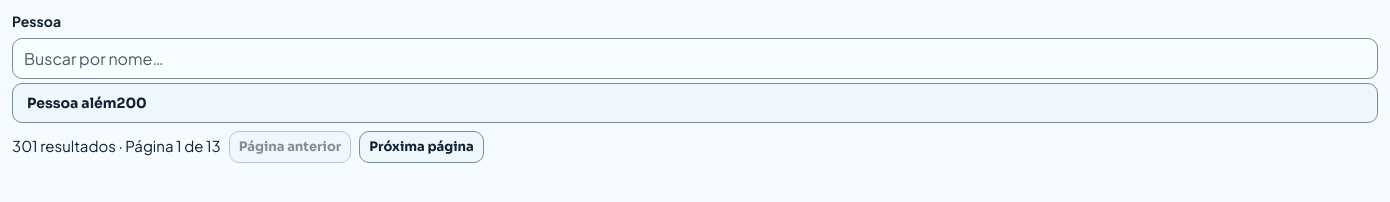
Test case: PaginatedLookup › alcança página seguinte e mantém nome selecionado ao paginar
Click the button "Pessoa além200": [87, 103] box [12, 83, 1378, 123]
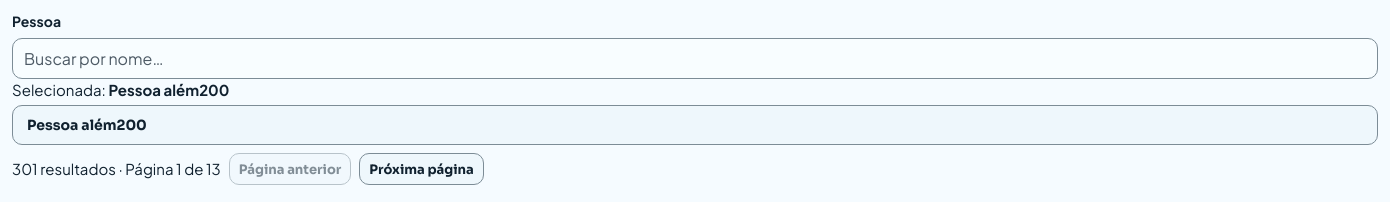
Click the button "Próxima página": [422, 169] box [359, 153, 484, 185]
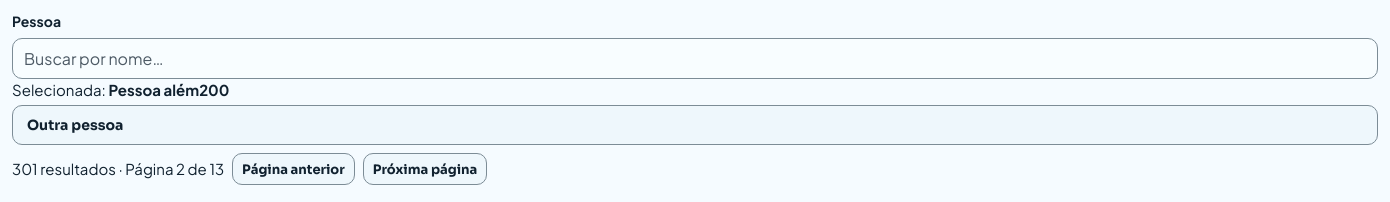
Expected: the text "301 resultados" is shown, [12, 158, 224, 180]
Now the text "Selecionada: Pessoa além200" is shown, box [12, 80, 229, 99]
Now the text "Página 2 de 13" is shown, box [12, 158, 224, 180]
